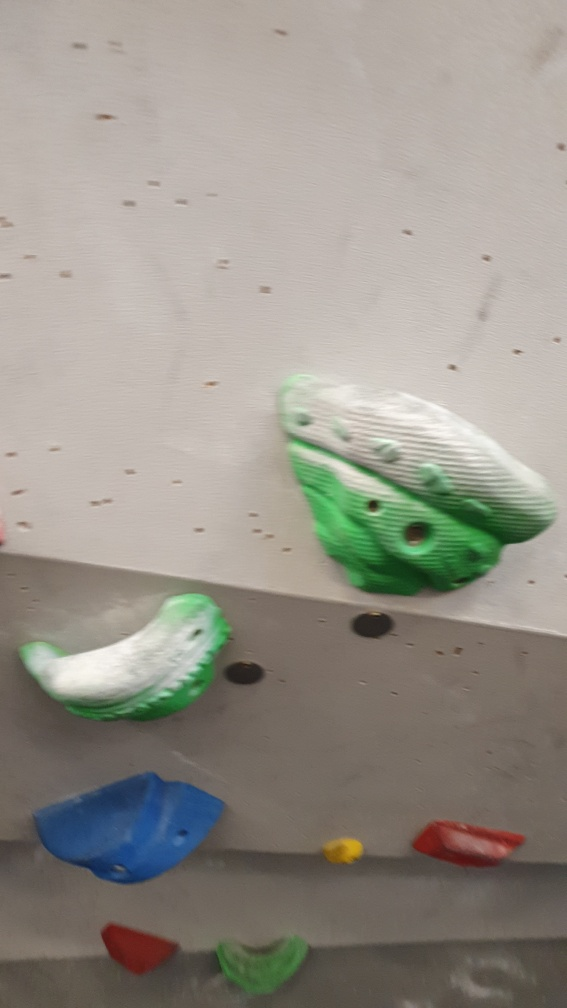Crimp: (414, 819, 525, 872)
Hand Start: (346, 609, 396, 643), (225, 657, 265, 684)
Jug: (277, 364, 558, 603), (20, 590, 231, 731), (211, 931, 314, 998)
Pinch: (36, 770, 225, 887)
